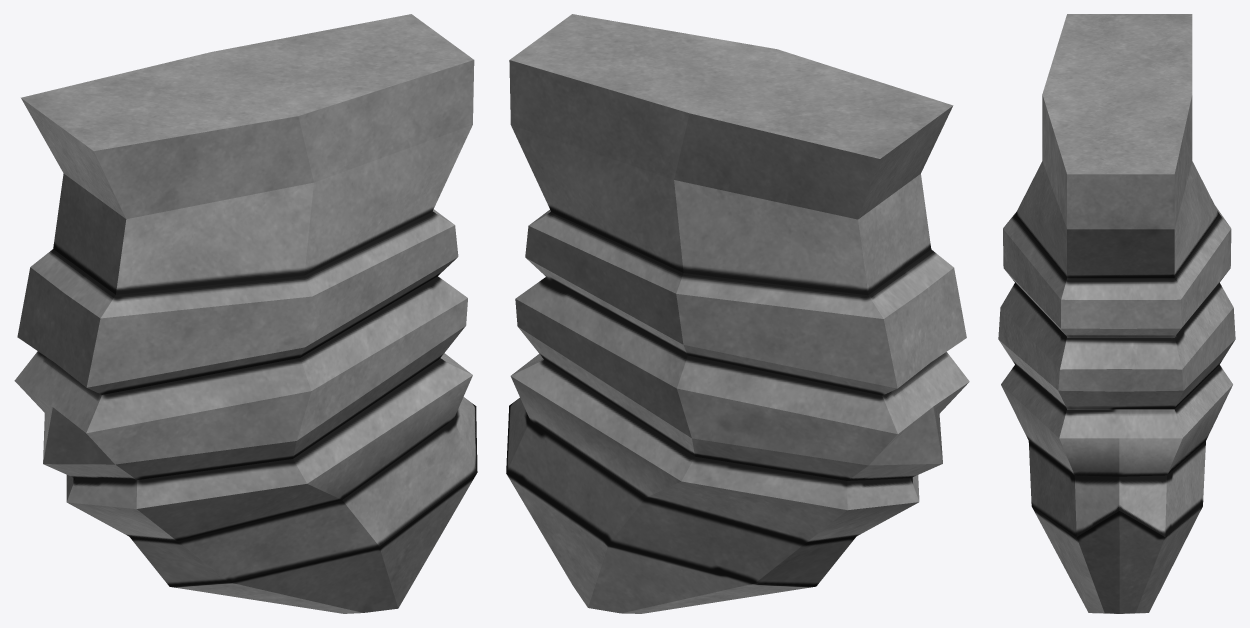
The model's file is Auto_Adjust_Grip.fbx.
3 views of the same model, side by side, from view 1: azimuth 30°, elevation 25°; view 2: azimuth 150°, elevation 25°; view 3: azimuth 270°, elevation 25° (orthographic). The views are drawn at different scales.
Parts seen in each view (by area): view 1: AutoAdjustGrip; view 2: AutoAdjustGrip; view 3: AutoAdjustGrip.
Part boxes in pixels (box(x1,y1,x2,y2)): AutoAdjustGrip: box(14, 14, 477, 613); AutoAdjustGrip: box(506, 14, 969, 613); AutoAdjustGrip: box(998, 14, 1235, 613).
Bounding box in the file's own units: 19.51 × 23.83 × 10.8.
